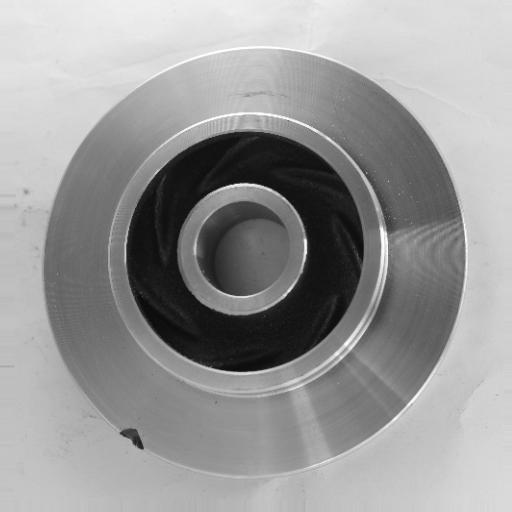crack: (113, 421, 159, 457)
unpolished_casting: (42, 44, 467, 473)
